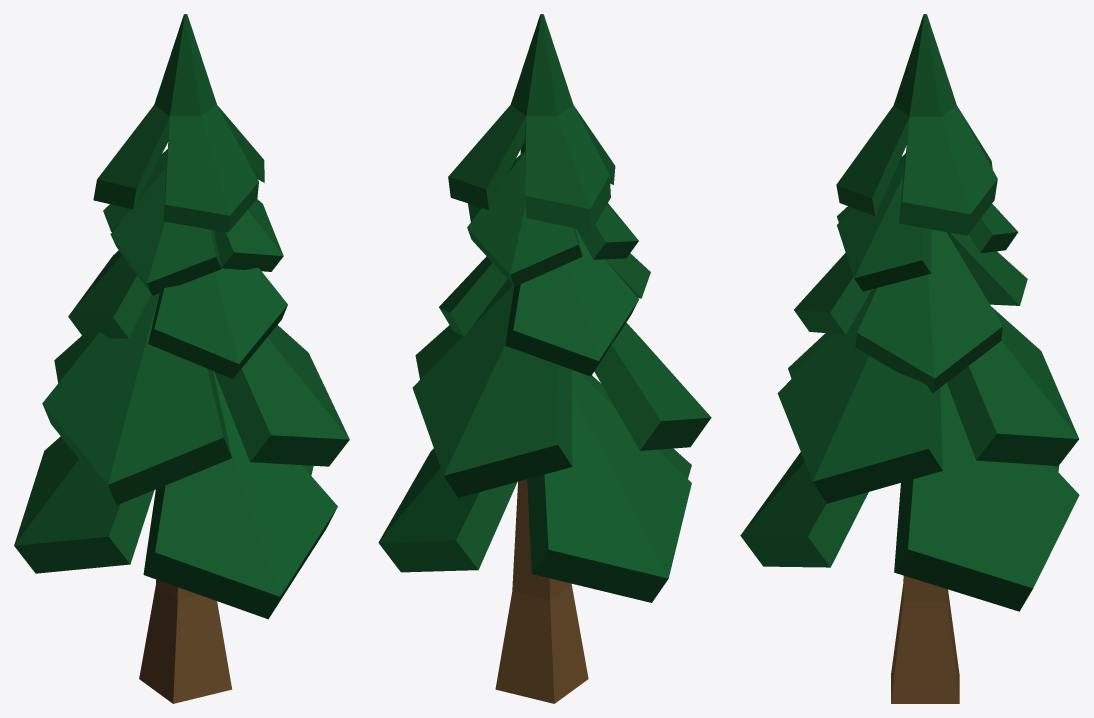
File: Pine.fbx
The picture shows the model from 3 angles, left to right: view 1: azimuth 30°, elevation 25°; view 2: azimuth 150°, elevation 25°; view 3: azimuth 270°, elevation 25°; orthographic projection.
Visible parts, largest first — view 1: Cube.011, Cube.001, Cylinder, Cube.010, Cube.013, Cube.006, Cube, Cube.005, Cube.008, Cube.003, Cube.002, Cube.009; view 2: Cube.013, Cube.009, Cylinder, Cube.008, Cube, Cube.012, Cube.001, Cube.002, Cube.007, Cube.005, Cube.010, Cube.006 (+1 smaller); view 3: Cube.012, Cube.010, Cylinder, Cube.007, Cube.009, Cube.011, Cube, Cube.003, Cube.006, Cube.008, Cube.002, Cube.001.
Part boxes in pixels (left/top/right/bottom): Cube.011: left=143, top=371, right=337, bottom=619; Cube.001: left=42, top=293, right=231, bottom=505; Cylinder: left=93, top=14, right=264, bottom=232; Cube.010: left=214, top=325, right=349, bottom=466; Cube.013: left=14, top=436, right=154, bottom=573; Cube.006: left=148, top=267, right=287, bottom=378; Cube: left=139, top=579, right=232, bottom=703; Cube.005: left=110, top=167, right=221, bottom=295; Cube.008: left=68, top=250, right=151, bottom=338; Cube.003: left=214, top=199, right=283, bottom=271; Cube.002: left=103, top=149, right=167, bottom=231; Cube.009: left=54, top=336, right=94, bottom=383; Cube.013: left=527, top=370, right=691, bottom=602; Cube.009: left=412, top=285, right=572, bottom=497; Cylinder: left=448, top=14, right=615, bottom=231; Cube.008: left=505, top=228, right=638, bottom=376; Cube: left=495, top=479, right=588, bottom=703; Cube.012: left=378, top=448, right=517, bottom=572; Cube.001: left=594, top=322, right=711, bottom=450; Cube.002: left=467, top=152, right=582, bottom=286; Cube.007: left=439, top=256, right=507, bottom=336; Cube.005: left=576, top=203, right=638, bottom=259; Cube.010: left=415, top=279, right=512, bottom=379; Cube.006: left=605, top=253, right=650, bottom=298; Cube.012: left=894, top=383, right=1079, bottom=611; Cube.010: left=777, top=293, right=942, bottom=503; Cylinder: left=836, top=14, right=997, bottom=235; Cube.007: left=855, top=229, right=1002, bottom=392; Cube.009: left=947, top=307, right=1078, bottom=465; Cube.011: left=740, top=452, right=868, bottom=567; Cube: left=891, top=575, right=959, bottom=703; Cube.003: left=837, top=156, right=931, bottom=291; Cube.006: left=794, top=253, right=871, bottom=334; Cube.008: left=946, top=232, right=1027, bottom=305; Cube.002: left=968, top=204, right=1018, bottom=253; Cube.001: left=788, top=288, right=877, bottom=378.
Bounding box in the file's own units: 379 × 885 × 403.
